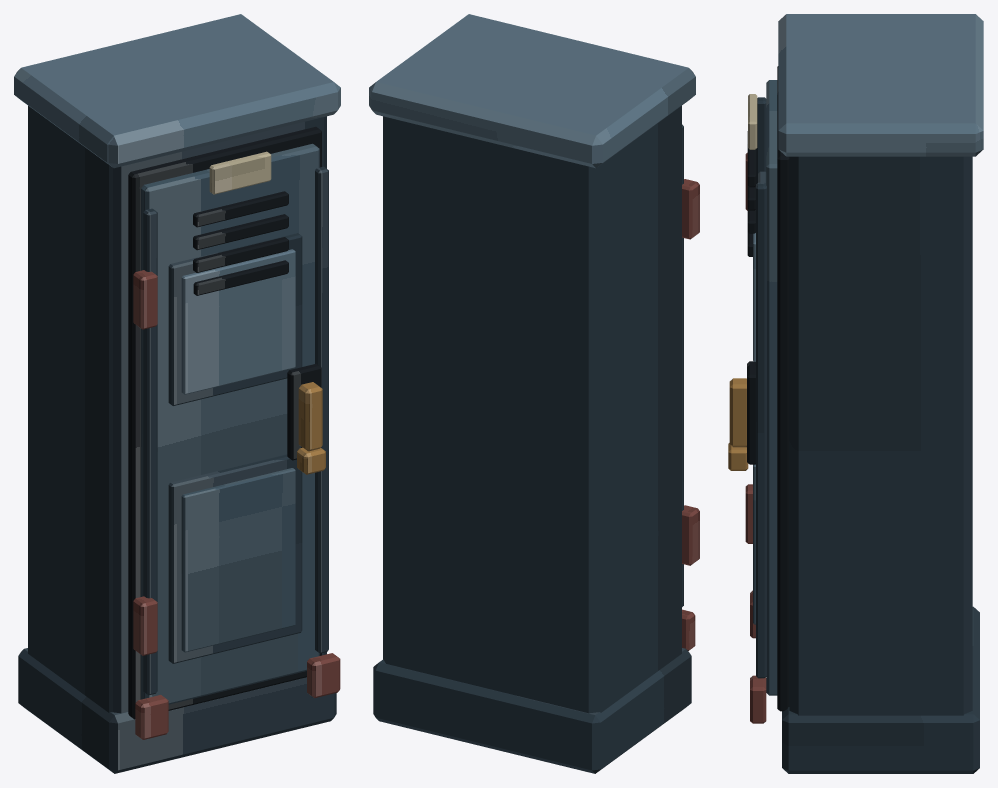
File: hiding_spot.glb
3 views of the same model, side by side, from view 1: azimuth 30°, elevation 25°; view 2: azimuth 150°, elevation 25°; view 3: azimuth 270°, elevation 25° (orthographic).
Visible parts, largest first — view 1: LockerBody, LockerDoor, ChunkyTop, LowerPanel, ChunkyBase, UpperPanel, DoorShadow, LowerInset, DoorRail_R, DoorRail_L, UpperInset, NumberPlate (+11 smaller); view 2: LockerBody, ChunkyTop, ChunkyBase, BlockHinge_1, BlockHinge_2, DoorRail_L; view 3: LockerBody, ChunkyTop, ChunkyBase, DoorShadow, LockerDoor, DoorRail_R, Handle, HandlePlate, DoorRail_L, BaseBracket_R, NumberPlate, LowerPanel (+2 smaller).
Part boxes in pixels (x1=…): LockerBody: x1=28, y1=106, x2=326, y2=713; LockerDoor: x1=141, y1=143, x2=319, y2=704; ChunkyTop: x1=14, y1=14, x2=340, y2=168; LowerPanel: x1=181, y1=468, x2=295, y2=652; ChunkyBase: x1=18, y1=648, x2=336, y2=773; UpperPanel: x1=181, y1=249, x2=295, y2=394; DoorShadow: x1=128, y1=126, x2=321, y2=719; LowerInset: x1=168, y1=454, x2=302, y2=663; DoorRail_R: x1=315, y1=166, x2=328, y2=653; DoorRail_L: x1=143, y1=208, x2=157, y2=695; UpperInset: x1=168, y1=233, x2=302, y2=405; NumberPlate: x1=209, y1=151, x2=271, y2=194; LockerBody: x1=383, y1=106, x2=681, y2=713; ChunkyTop: x1=369, y1=14, x2=695, y2=168; ChunkyBase: x1=373, y1=648, x2=691, y2=773; BlockHinge_1: x1=682, y1=505, x2=699, y2=565; BlockHinge_2: x1=682, y1=179, x2=699, y2=239; DoorRail_L: x1=682, y1=124, x2=683, y2=606; LockerBody: x1=789, y1=156, x2=972, y2=715; ChunkyTop: x1=778, y1=14, x2=983, y2=156; ChunkyBase: x1=782, y1=606, x2=979, y2=773; DoorShadow: x1=777, y1=66, x2=789, y2=711; LockerDoor: x1=766, y1=80, x2=777, y2=695; DoorRail_R: x1=756, y1=182, x2=766, y2=678; Handle: x1=729, y1=378, x2=746, y2=447; HandlePlate: x1=747, y1=361, x2=755, y2=464; DoorRail_L: x1=756, y1=97, x2=766, y2=183; BaseBracket_R: x1=750, y1=675, x2=766, y2=723; NumberPlate: x1=748, y1=94, x2=757, y2=149; LowerPanel: x1=753, y1=464, x2=755, y2=624.
Bounding box in the file's own units: 0.75 × 1.96 × 0.6965.
4 materials, 4 textured.
